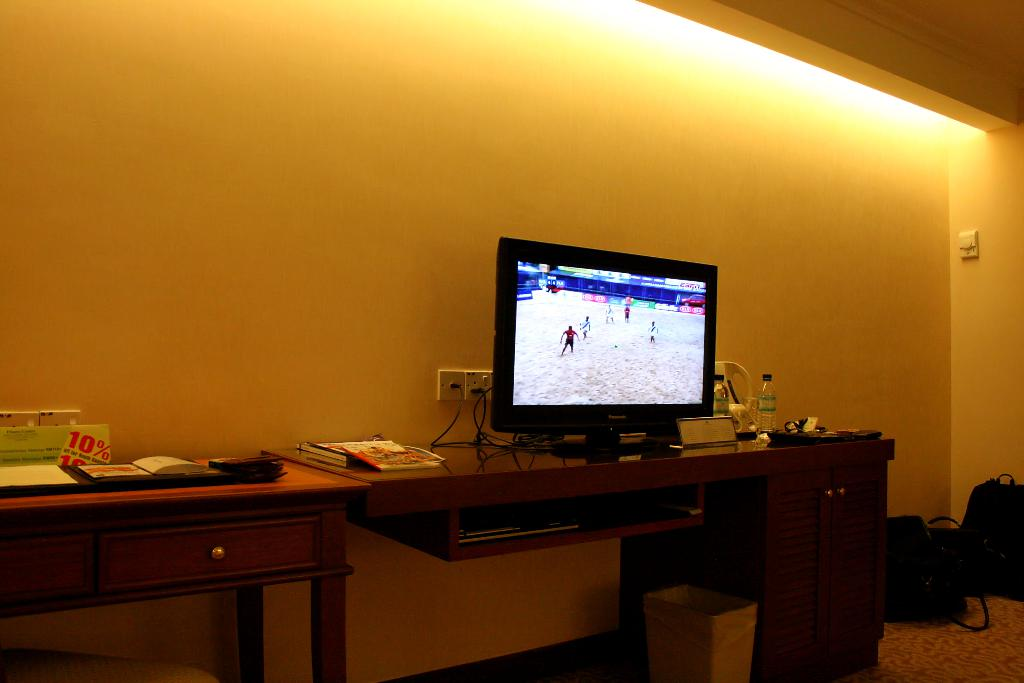Cabinetry: (614, 437, 902, 682)
